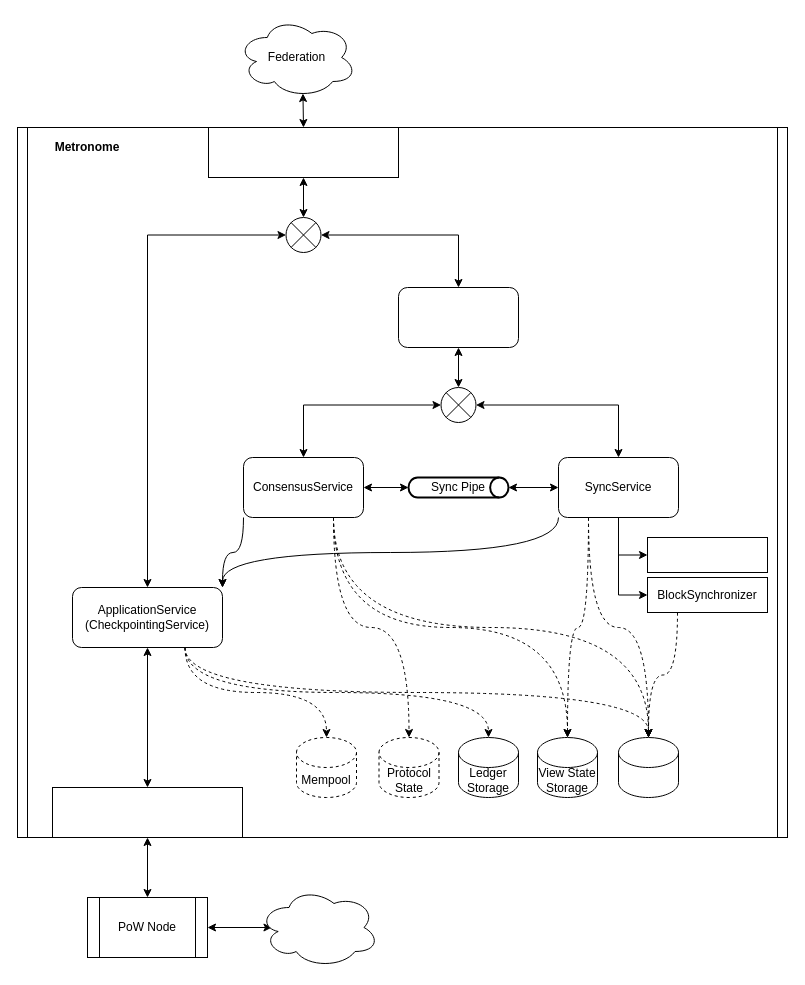
The diagram is 805 pixels wide and 985 high, and some of its shapes have lost their labels. The shapes that lost their labels are listed below. From the top down, each one's centre as x and y in pixels, then its label:
point 303,152: Network (RemoteConnectionManager)
point 458,317: HotStuffService
point 707,554: ViewSynchronizer
point 648,767: Block Storage
point 147,812: Interpreter Connection
point 318,927: PoW Network
